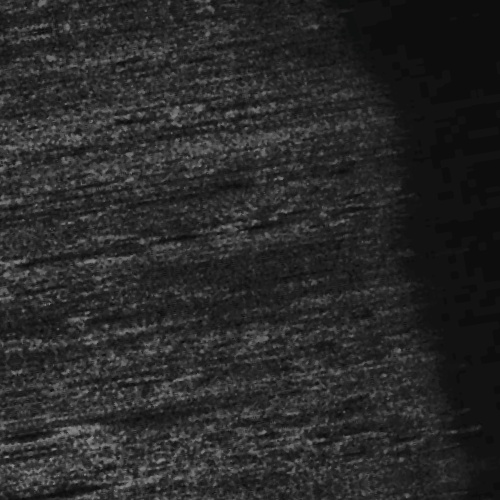object: (33, 451, 138, 460), (5, 391, 78, 402)
shadow: (0, 451, 85, 460), (0, 391, 42, 402)
